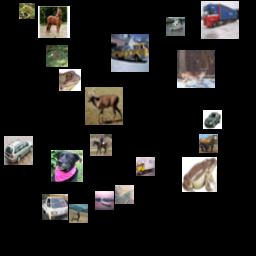airplane: (115, 185, 134, 204)
automobile: (4, 136, 33, 165), (203, 110, 222, 129)
deer: (85, 87, 123, 125), (177, 50, 215, 88), (46, 45, 68, 67), (69, 204, 88, 223)
dog: (51, 150, 83, 182)
frog: (182, 157, 217, 192), (59, 69, 81, 91), (19, 3, 35, 19)
ship: (95, 191, 114, 210), (166, 17, 185, 36)
truck: (201, 1, 239, 39), (111, 34, 149, 72), (42, 194, 68, 220), (136, 157, 155, 176)
